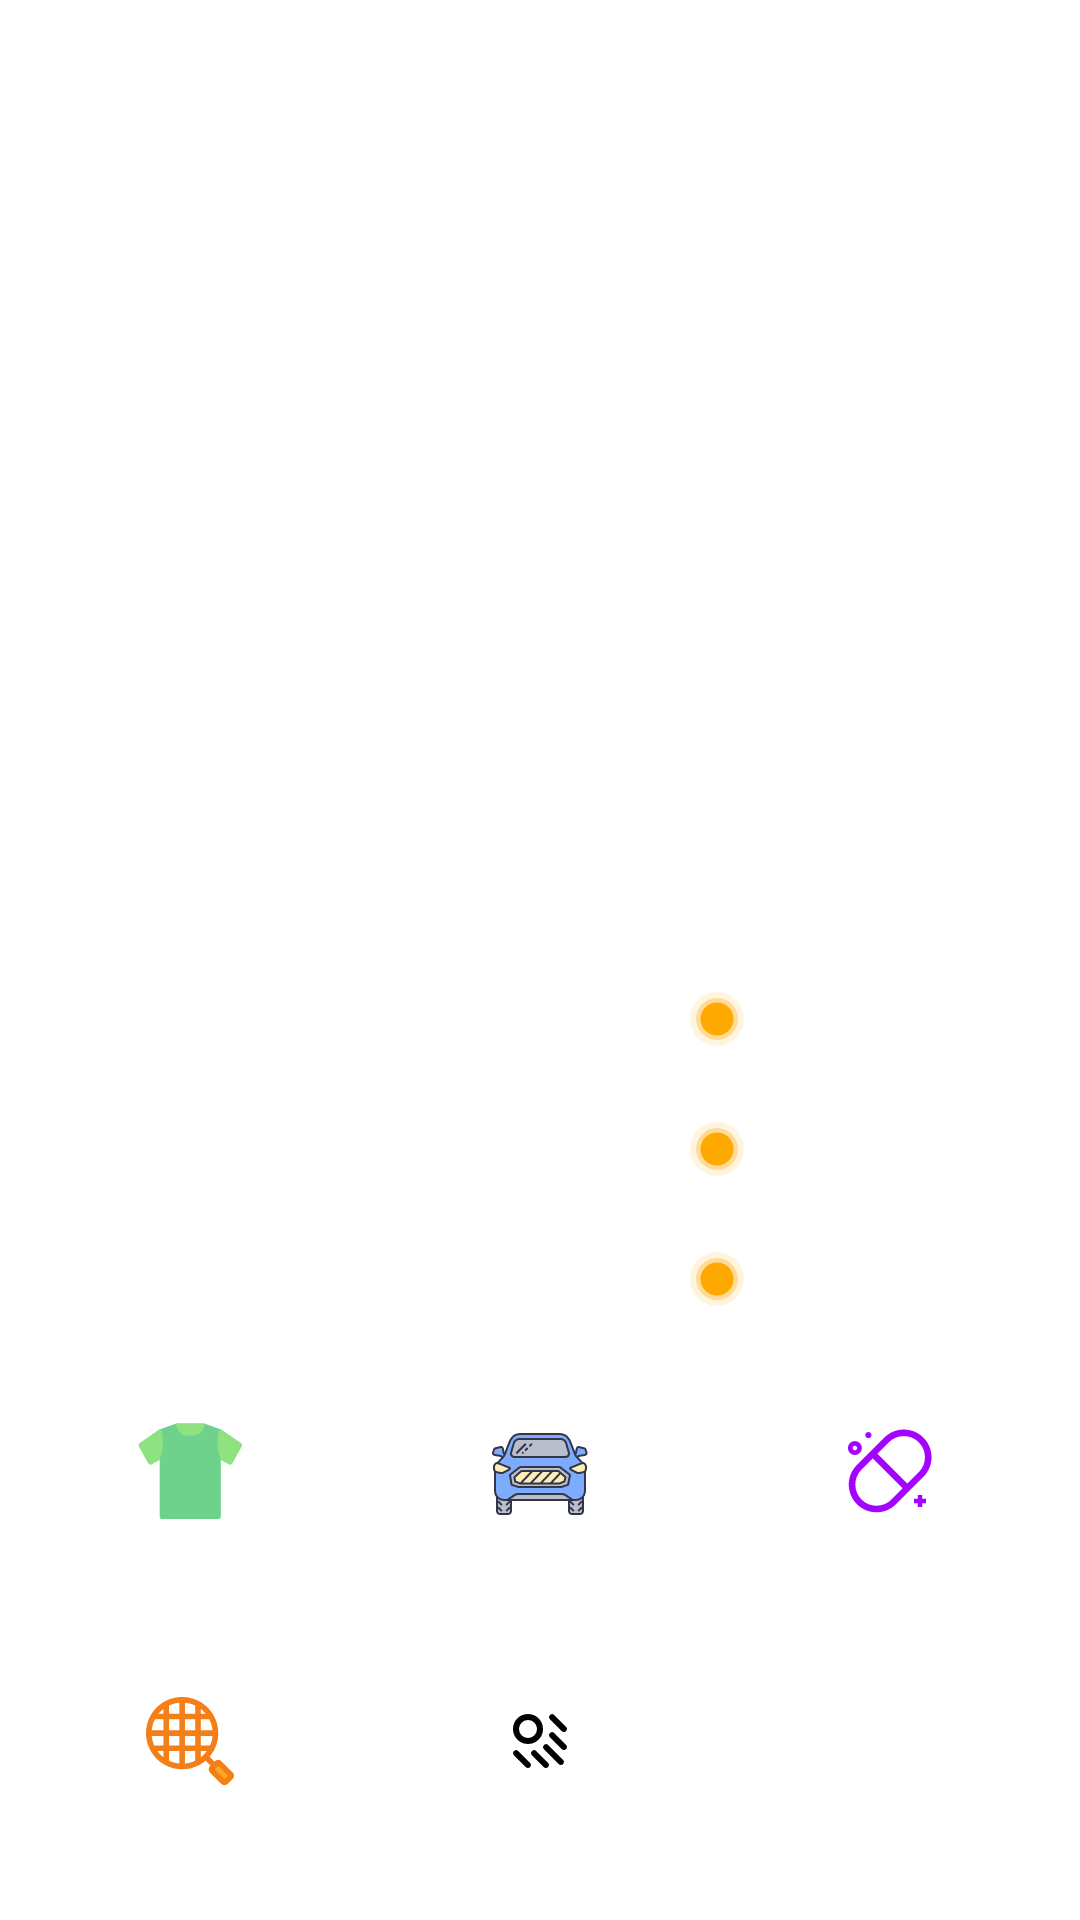

Where to tap for icons on this 1080 × 1920 app screen, as [x,y]:
sun: [717,1019], [717,1149], [717,1279]
